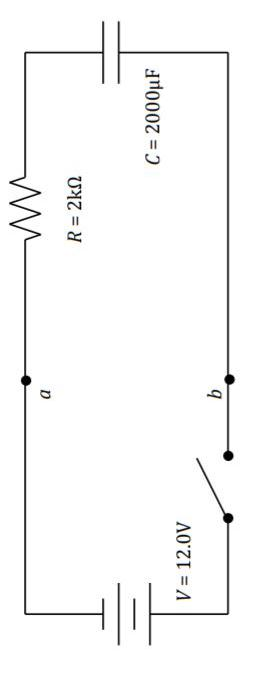Capacitor: (70, 3, 133, 105)
